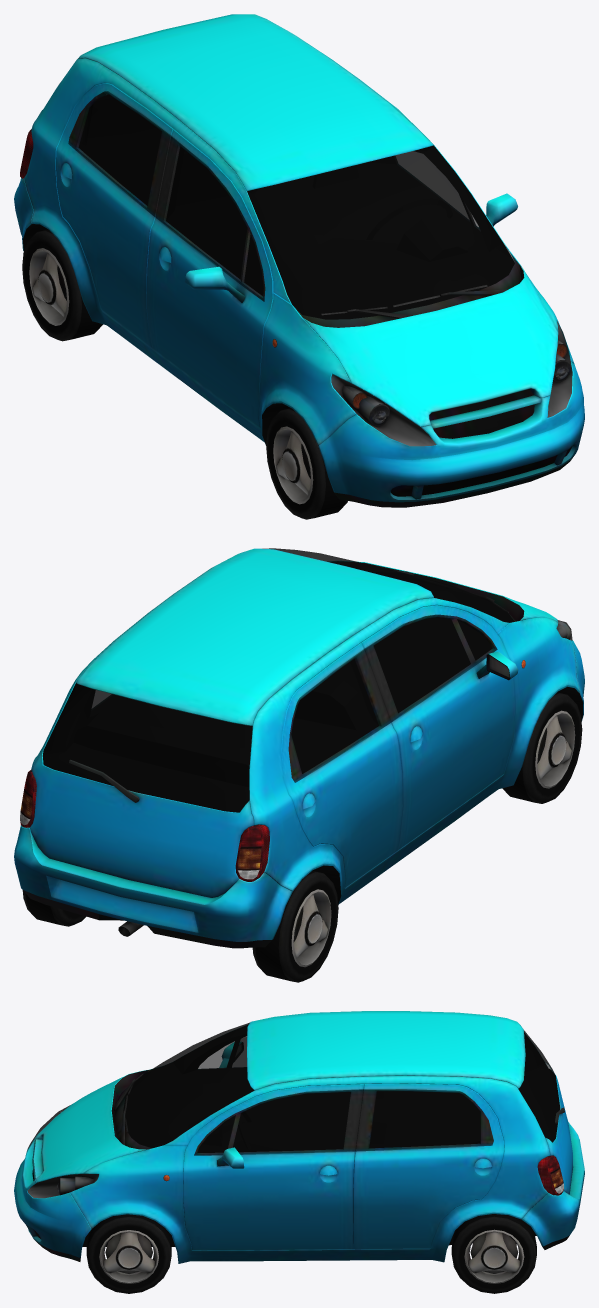
The model's file is sedan-sports.glb.
3 views of the same model, one above another, from view 1: azimuth 30°, elevation 25°; view 2: azimuth 150°, elevation 25°; view 3: azimuth 270°, elevation 25° (orthographic). The views are drawn at different scales.
Parts seen in each view (by area): view 1: Compact Body_Body_0, Compact Body_Glass_0, Wheel_C003_Wheel_0, Wheel_C002_Wheel_0, Compact Body_Optics_0; view 2: Compact Body_Body_0, Compact Body_Glass_0, Wheel_C002_Wheel_0, Wheel_C003_Wheel_0, Compact Body_Optics_0, Wheel_C001_Wheel_0; view 3: Compact Body_Body_0, Compact Body_Glass_0, Wheel_C001_Wheel_0, Wheel_C_Wheel_0, Compact Body_Optics_0.
Part boxes in pixels (x1,y1,x2,y2): Compact Body_Body_0: (14,14,584,507); Compact Body_Glass_0: (59,83,572,446); Wheel_C003_Wheel_0: (266,408,347,519); Wheel_C002_Wheel_0: (22,229,102,341); Compact Body_Optics_0: (20,129,570,426); Compact Body_Body_0: (14,548,584,948); Compact Body_Glass_0: (43,548,572,812); Wheel_C002_Wheel_0: (252,870,338,982); Wheel_C003_Wheel_0: (502,692,582,803); Compact Body_Optics_0: (20,660,525,881); Wheel_C001_Wheel_0: (22,890,86,926); Compact Body_Body_0: (14,1011,584,1263); Compact Body_Glass_0: (27,1022,559,1198); Wheel_C001_Wheel_0: (451,1214,536,1293); Wheel_C_Wheel_0: (86,1214,171,1293); Compact Body_Optics_0: (57,1155,563,1195).
Bounding box in the file's own units: 2.2 × 1.8 × 4.45.
4 materials, 3 textured.
